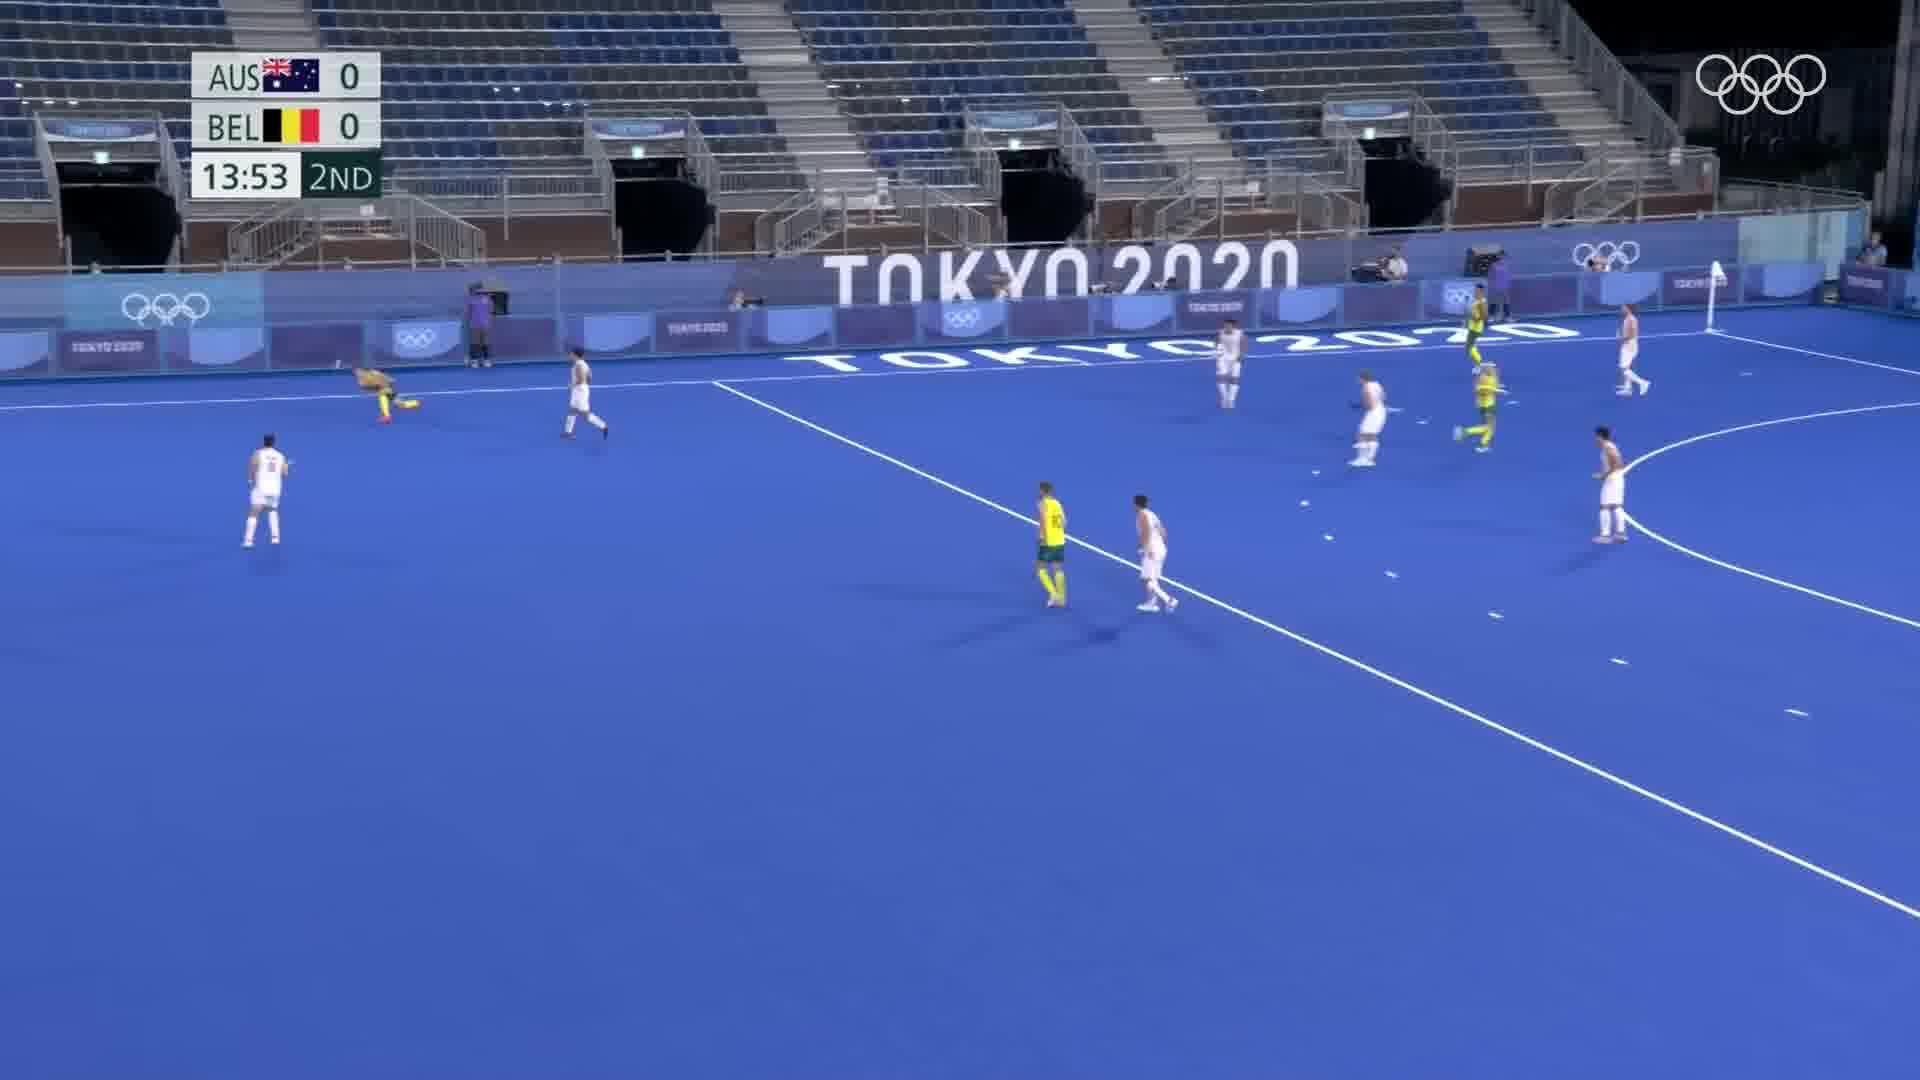ball: (332, 355, 344, 372)
